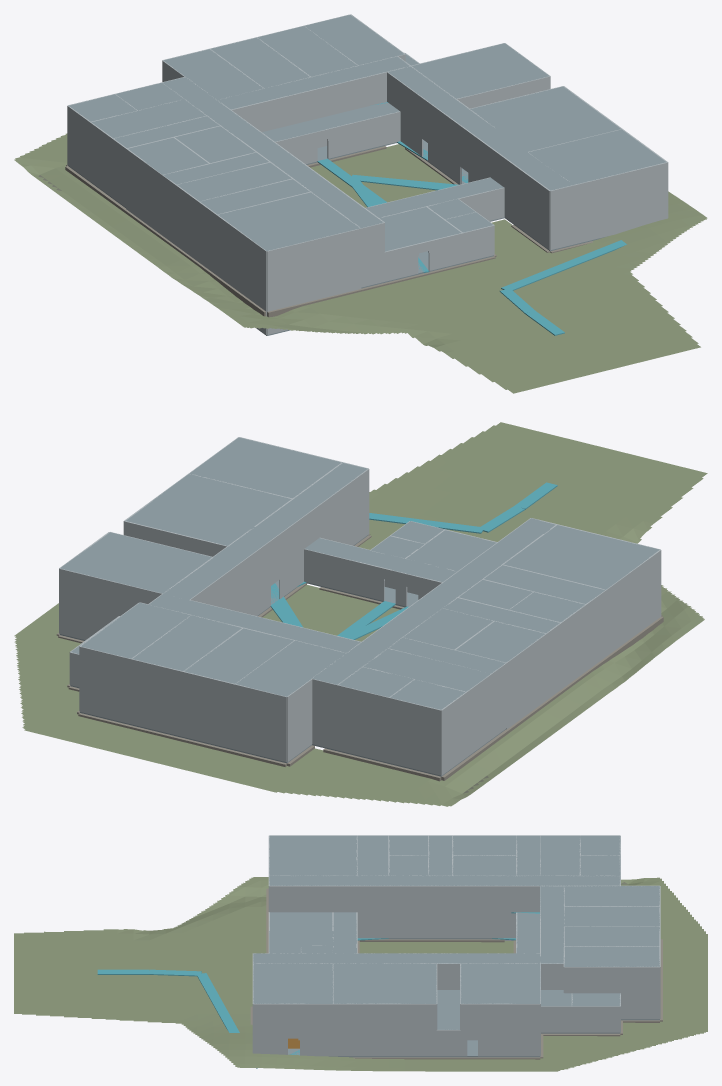
The model's file is open-circulation.glb.
The picture shows the model from 3 angles, top to bottom: view 1: azimuth 30°, elevation 25°; view 2: azimuth 150°, elevation 25°; view 3: azimuth 270°, elevation 25°; orthographic projection. The views are drawn at different scales.
Parts seen in each view (by area): view 1: Saved editor macroterrain ACADEMY, Ceiling cap study, Wall upper-east W, Ceiling cap upper-west, Ceiling cap upper-main-stair, Flat route shell Wall upper-north S, Ceiling cap restricted, Ceiling cap upper-east-stair, Ceiling cap upper-east, Wall upper-main-stair S, Wall upper-east-stair S, Wall main-stair S (+44 smaller); view 2: Saved editor macroterrain ACADEMY, Ceiling cap study, Ceiling cap upper-west, Wall upper-east W, Ceiling cap upper-main-stair, Ceiling cap restricted, Ceiling cap upper-east-stair, Ceiling cap upper-east, Ceiling cap dorm-1, Ceiling cap dorm-4, Ceiling cap dorm-3, Ceiling cap dorm-2 (+51 smaller); view 3: Saved editor macroterrain ACADEMY, Flat route shell Wall upper-west E.001, Flat route shell Wall west E.001, Ceiling cap study, Ceiling cap upper-main-stair, Ceiling cap upper-west, Ceiling cap restricted, Ceiling cap upper-east-stair, Ceiling cap upper-east, Wall study E, Wall lecture E, Wall dorm-4 E (+33 smaller).
Part boxes in pixels (box(x1,y1,x2,y2)): Saved editor macroterrain ACADEMY: box(14, 133, 707, 393); Ceiling cap study: box(470, 86, 620, 151); Wall upper-east W: box(387, 72, 550, 220); Ceiling cap upper-west: box(163, 77, 383, 228); Ceiling cap upper-main-stair: box(218, 192, 360, 250); Flat route shell Wall upper-north S: box(231, 70, 393, 131); Ceiling cap restricted: box(412, 43, 549, 98); Ceiling cap upper-east-stair: box(529, 129, 666, 184); Ceiling cap upper-east: box(388, 66, 572, 190); Wall upper-main-stair S: box(267, 228, 361, 280); Wall upper-east-stair S: box(574, 162, 667, 214); Wall main-stair S: box(267, 258, 361, 310); Saved editor macroterrain ACADEMY: box(14, 422, 707, 806); Ceiling cap study: box(126, 474, 291, 545); Ceiling cap upper-west: box(312, 518, 555, 684); Wall upper-east W: box(189, 469, 369, 607); Ceiling cap upper-main-stair: box(503, 525, 659, 589); Ceiling cap restricted: box(60, 532, 211, 593); Ceiling cap upper-east-stair: box(190, 437, 342, 498); Ceiling cap upper-east: box(163, 462, 367, 599); Ceiling cap dorm-1: box(236, 640, 346, 696); Ceiling cap dorm-4: box(81, 602, 190, 658); Ceiling cap dorm-3: box(132, 615, 241, 670); Ceiling cap dorm-2: box(185, 628, 293, 683); Saved editor macroterrain ACADEMY: box(14, 877, 707, 1071); Flat route shell Wall upper-west E.001: box(269, 885, 546, 912); Flat route shell Wall west E.001: box(357, 912, 515, 938); Ceiling cap study: box(333, 963, 436, 1003); Ceiling cap upper-main-stair: box(269, 835, 356, 875); Ceiling cap upper-west: box(269, 876, 620, 885); Ceiling cap restricted: box(460, 963, 540, 1003); Ceiling cap upper-east-stair: box(253, 963, 332, 1003); Ceiling cap upper-east: box(253, 953, 540, 963); Wall study E: box(333, 1003, 436, 1030); Wall lecture E: box(333, 1030, 436, 1056); Wall dorm-4 E: box(564, 966, 659, 993).
Bounding box in the file's own units: 58 × 10.36 × 87.
